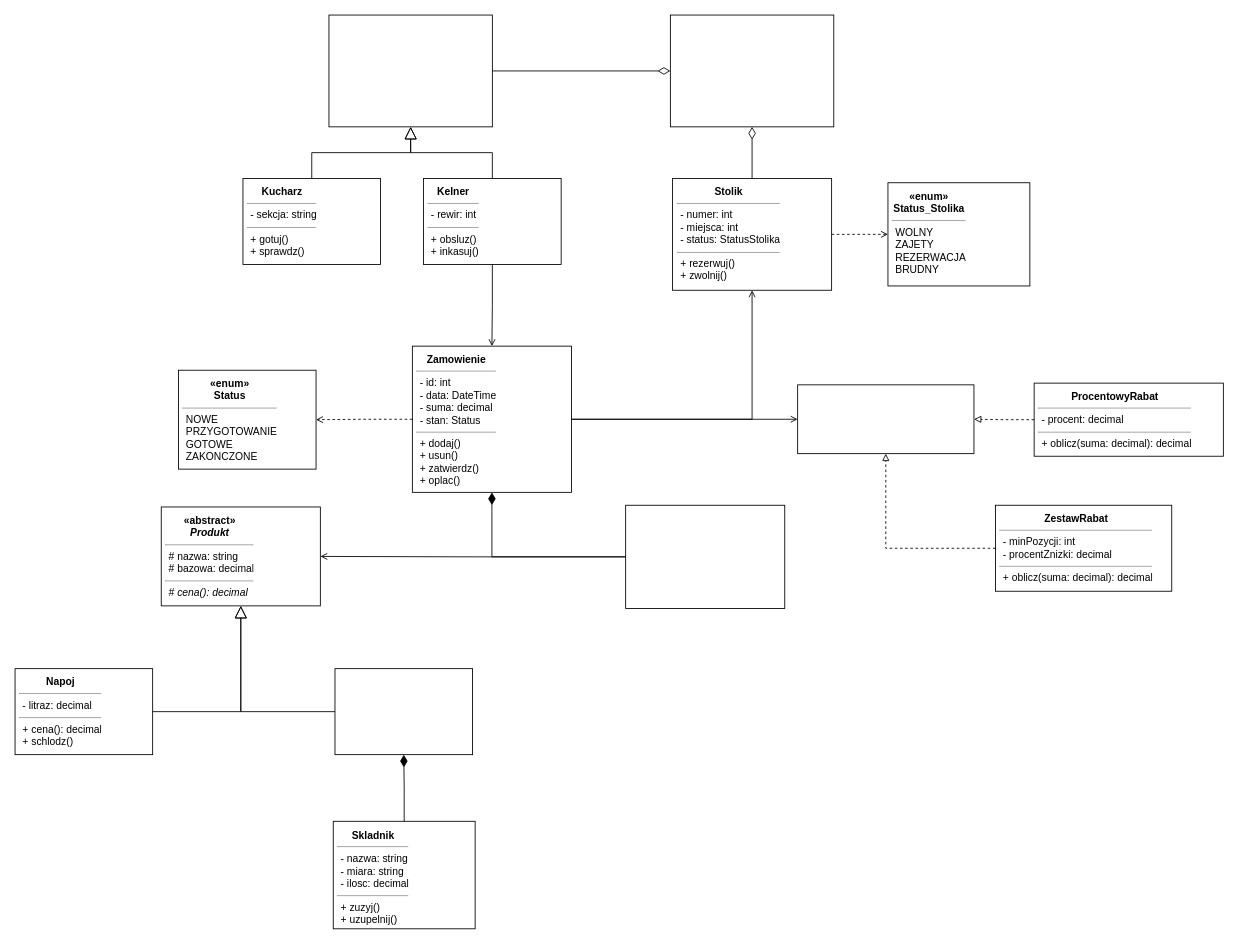
Image size: 1238x948. Some labels were removed from this diagram. The centre of each missing label's shape, as x and y in pixels:
Danie - czas: int + cena(): decimal + przygotuj(): (x=403, y=711)
Pozycja - ilosc: int - cena: decimal + sumuj(): decimal + rabatuj(): (x=705, y=556)
Restauracja - nazwa: string + otworz() + zamknij(): (x=752, y=70)
«abstract» Pracownik # id: int # imie: string # pensja: decimal # pracuj(): (x=410, y=70)
«interface» Rabat + oblicz(suma: decimal): decimal: (x=885, y=419)
